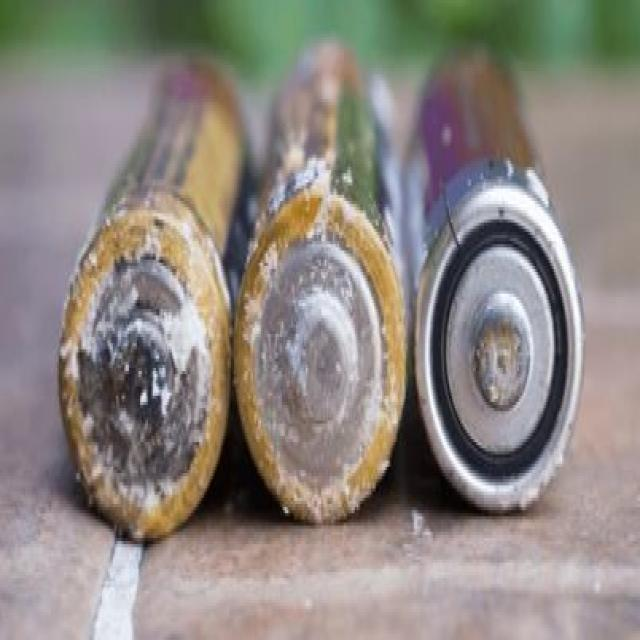electronic: (397, 32, 599, 546)
